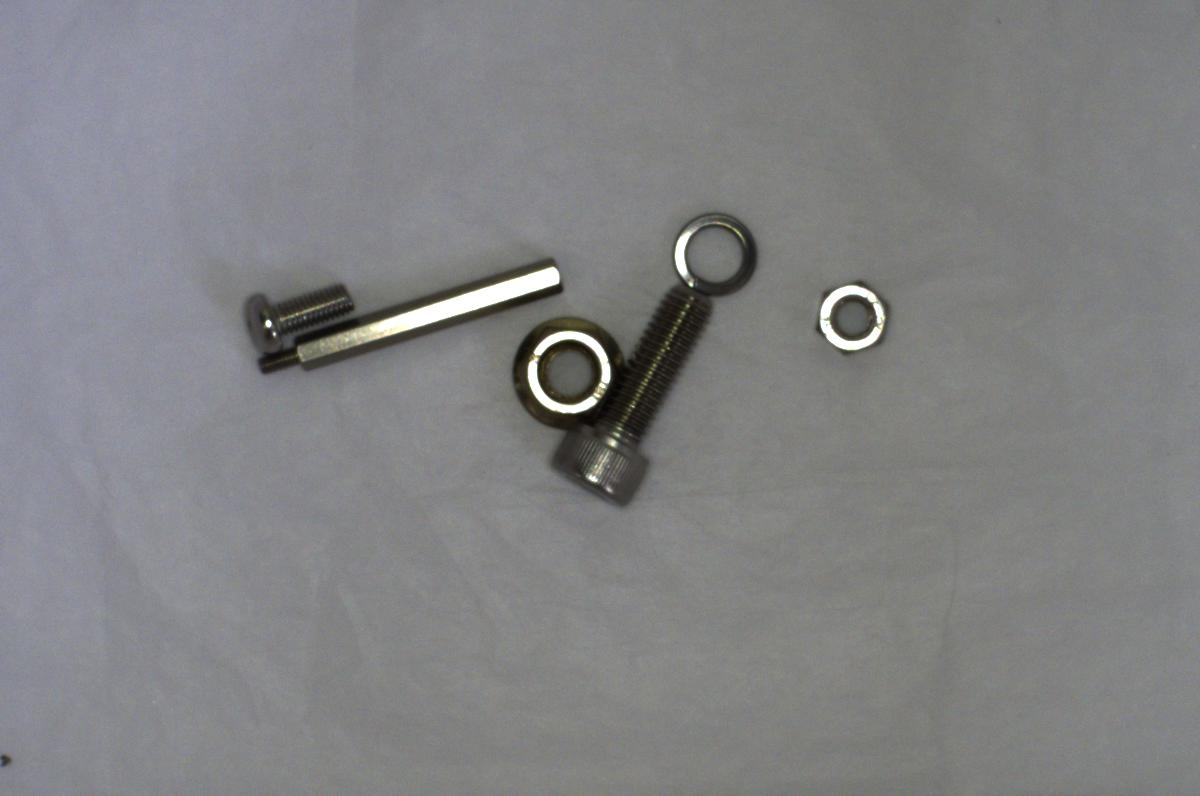Flange nut: (510, 312, 633, 429)
Hexagon nut: (799, 278, 897, 369)
Hexagon screw: (533, 275, 720, 502)
Hexagonal steel column: (253, 248, 564, 381)
Round head screw: (235, 274, 360, 354)
Spring washer: (667, 201, 766, 296)
